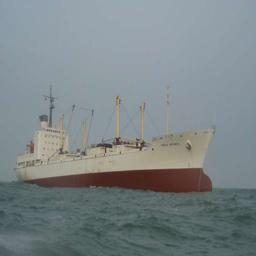Ship: (16, 94, 221, 197)
